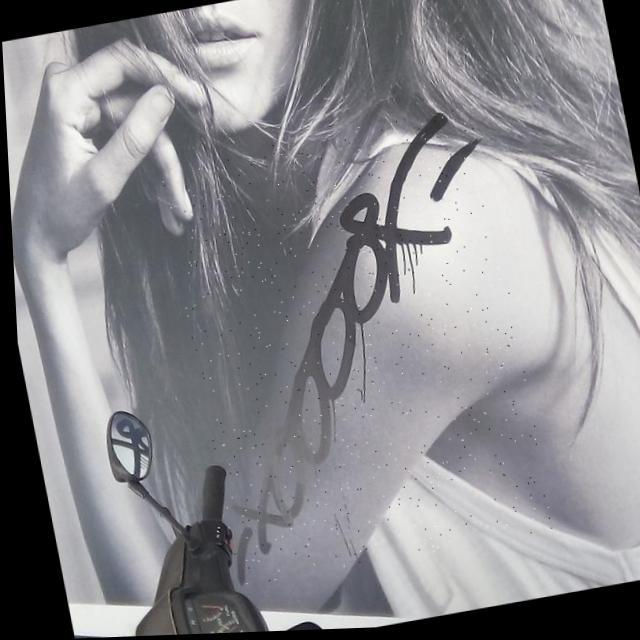-: (154, 108, 551, 590)
